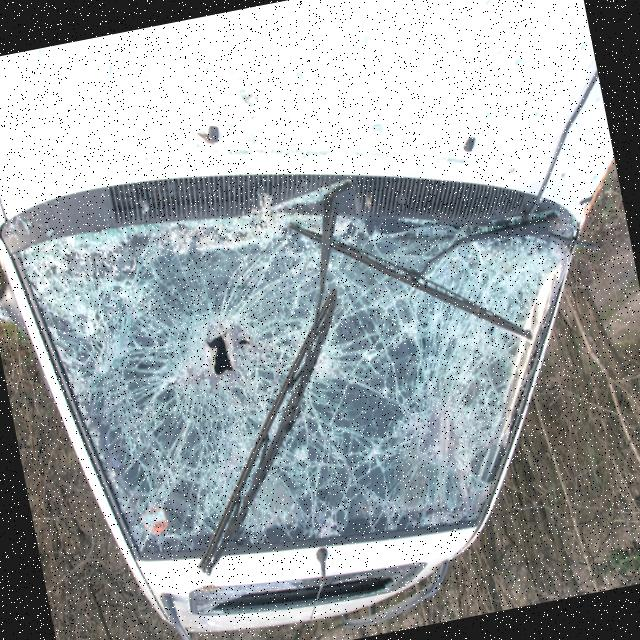Windshield: (73, 176, 569, 552)
